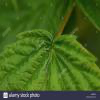Raspberry leaf: (0, 28, 100, 91)
